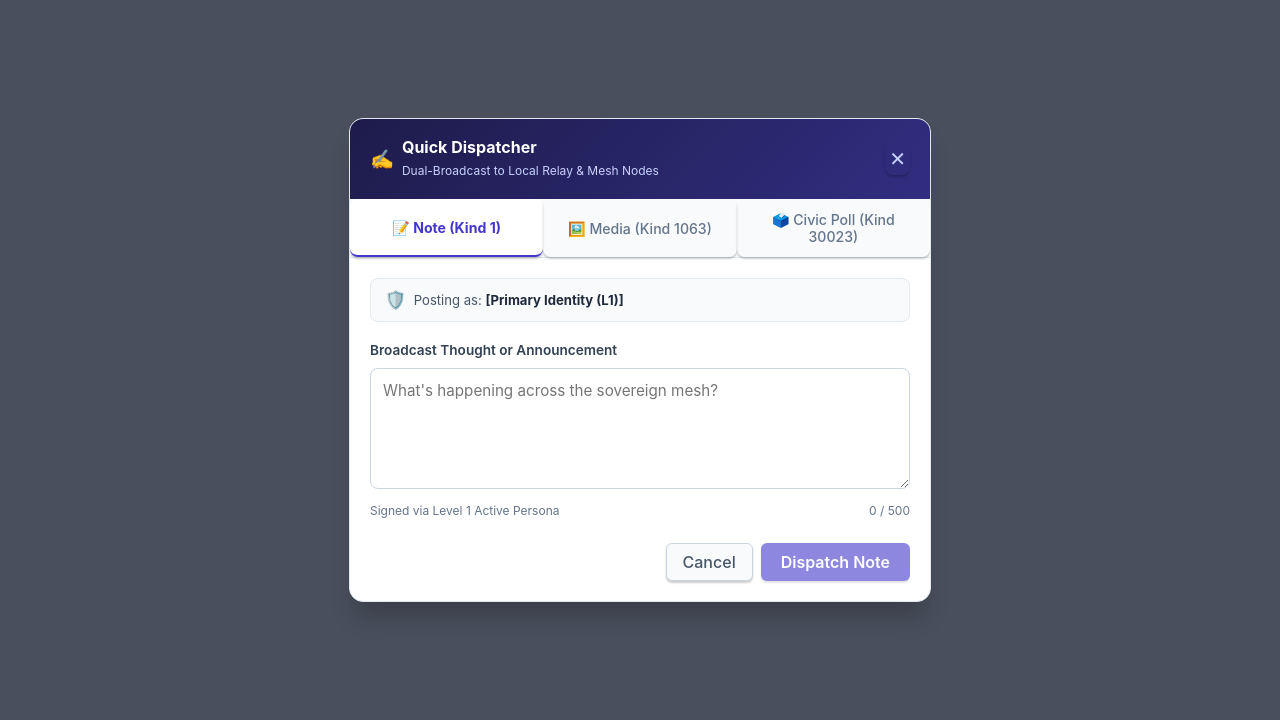
Quick Dispatch Parity & Contracts › Kind 1 Note Event Tagging Parity › extracts hashtags and appends omni_social_v2 client tag
Type "Broadcasting across the mesh #Sovereign #federation" into the text box with placeholder "What's happening across the sovereign mesh?".
click(640, 428); type("Broadcasting across the mesh #Sovereign #federation")  # box 370,368 -> 910,489
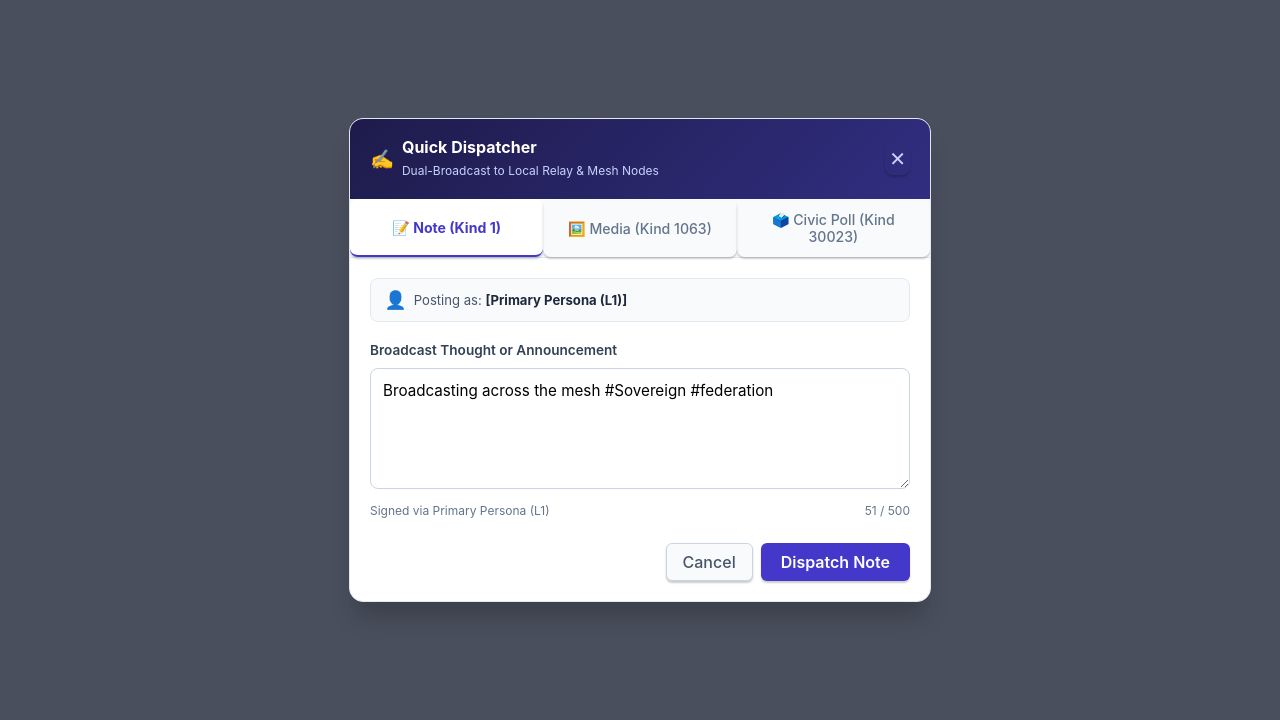
Click the button "Dispatch Note".
click(835, 562)  # box 761,543 -> 910,581
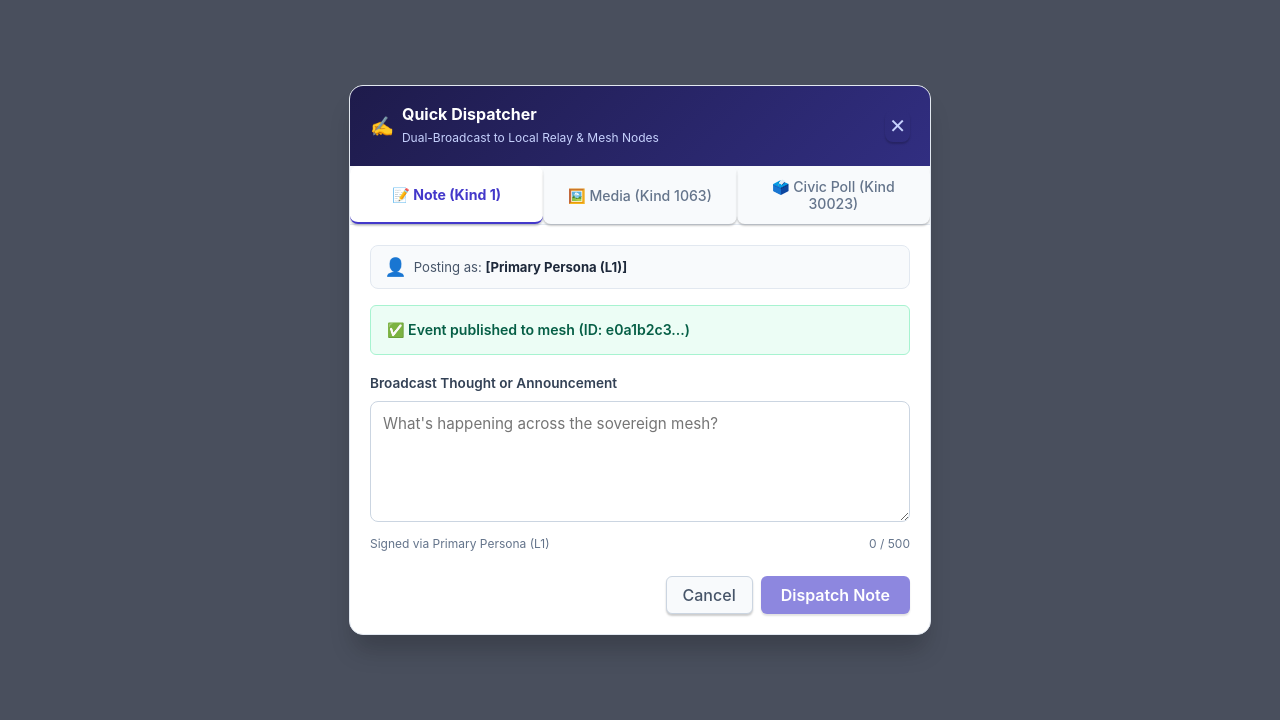
Now the text "✅ Event published to mesh (ID: e0a1b2c3...)" is shown, box 370,305 -> 910,355
